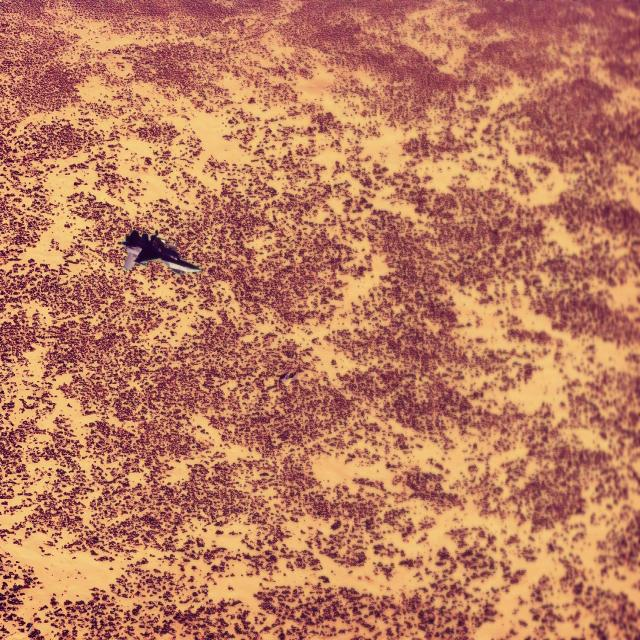airplane: (122, 229, 202, 274)
